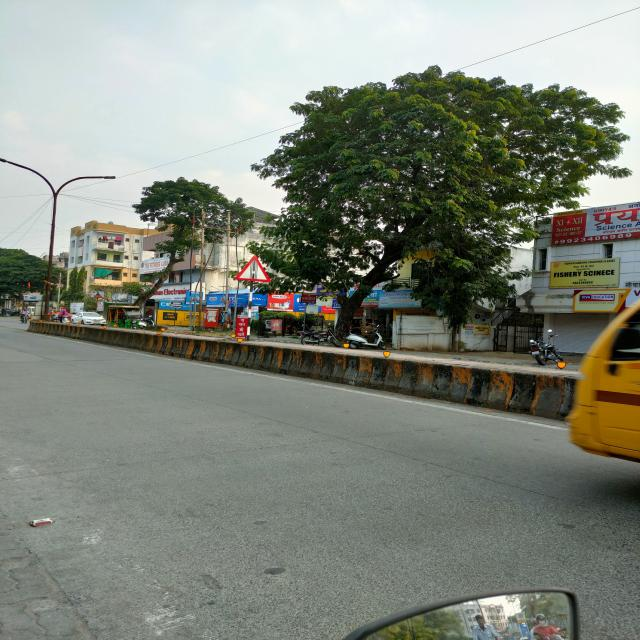GAP_IN_MEDIAN: (233, 254, 273, 282)
